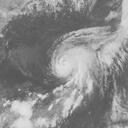cyclone: (49, 29, 96, 81)
